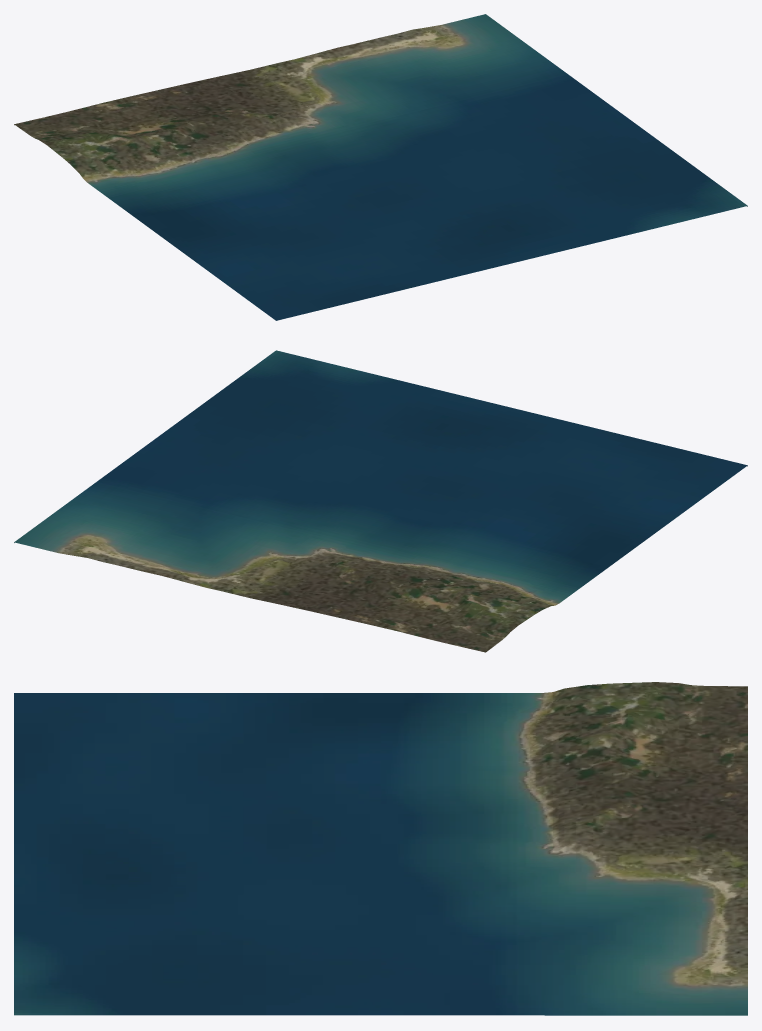
The picture shows the model from 3 angles, top to bottom: view 1: azimuth 30°, elevation 25°; view 2: azimuth 150°, elevation 25°; view 3: azimuth 270°, elevation 25°; orthographic projection. The views are drawn at different scales.
Size of the model in its own units: 500 by 11.62 by 481.
1 material, 1 textured.
